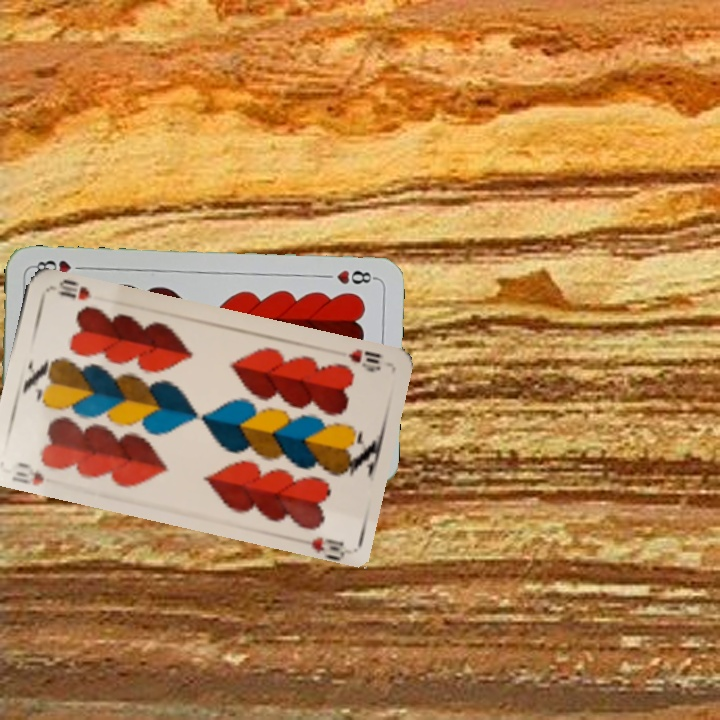H10: (344, 345, 384, 375), (8, 458, 47, 488)
H8: (332, 266, 378, 287)
